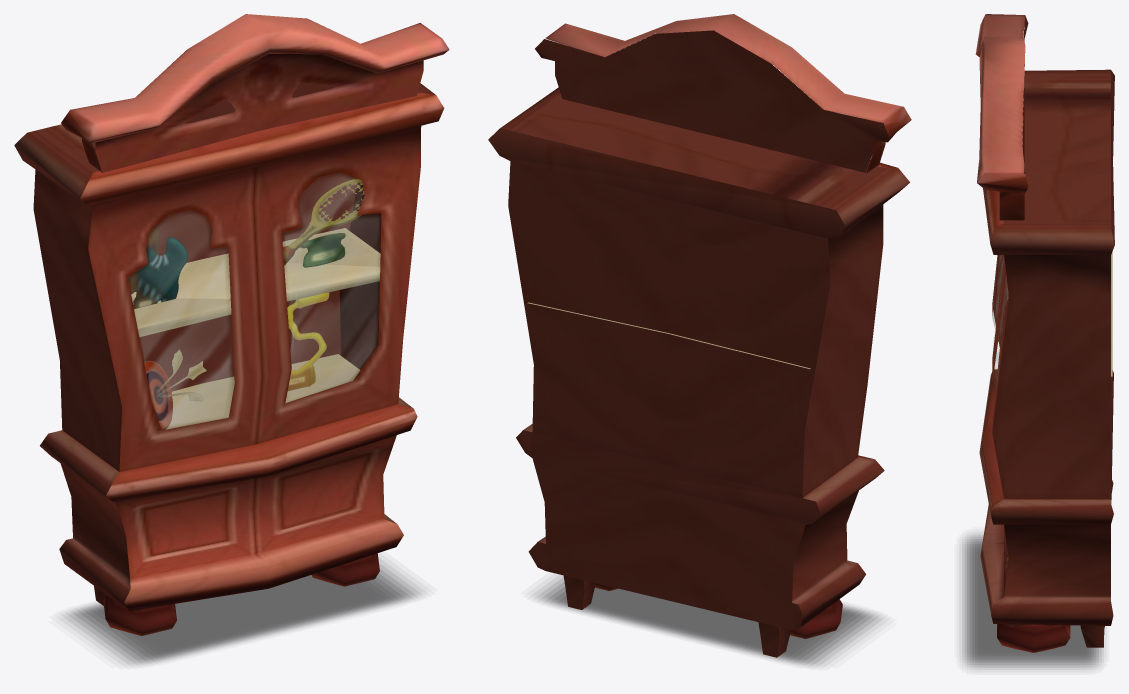
File: cabinetRwood.glb
3 views of the same model, side by side, from view 1: azimuth 30°, elevation 25°; view 2: azimuth 150°, elevation 25°; view 3: azimuth 270°, elevation 25° (orthographic). The views are drawn at different scales.
Parts seen in each view (by area): view 1: mid_m, low_mid, top1, mid_l, cabinetRwoodShadow, polySurface1, polySurface2, back, shelf, low_l, mid_r, shelf2 (+8 smaller); view 2: back, polySurface8, polySurface6, mid_l, polySurface5, polySurface7, cabinetRwoodShadow, top1, low_l, CABINET_Frontlegball_l; view 3: mid_r, low_r, polySurface5, top1, cabinetRwoodShadow, low_mid, CABINET_Frontlegball_l1, mid_m, mid_l, polySurface7, RB_foot1, polySurface2 (+1 smaller).
Boxes of the visible parts, box(x1,y1,x2,y2) form: mid_m: box(80, 92, 444, 471); low_mid: box(106, 404, 417, 611); top1: box(61, 14, 449, 172); mid_l: box(14, 130, 121, 471); cabinetRwoodShadow: box(63, 558, 422, 665); polySurface1: box(282, 173, 380, 400); polySurface2: box(128, 211, 234, 429); back: box(139, 172, 357, 391); shelf: box(131, 228, 380, 337); low_l: box(40, 430, 130, 610); mid_r: box(339, 83, 435, 369); shelf2: box(166, 354, 360, 429); back: box(508, 161, 830, 498); polySurface8: box(516, 430, 820, 629); polySurface6: box(535, 30, 889, 172); mid_l: box(802, 167, 909, 497); polySurface5: box(511, 94, 882, 207); polySurface7: box(488, 128, 844, 238); cabinetRwoodShadow: box(533, 575, 882, 665); top1: box(545, 14, 911, 173); low_l: box(792, 457, 884, 627); CABINET_Frontlegball_l: box(790, 599, 842, 638); mid_r: box(990, 223, 1114, 499); low_r: box(990, 499, 1113, 625); polySurface5: box(1004, 73, 1110, 223); top1: box(975, 14, 1028, 220); cabinetRwoodShadow: box(962, 534, 1103, 669); low_mid: box(979, 369, 1008, 615); CABINET_Frontlegball_l1: box(997, 624, 1070, 652); mid_m: box(983, 188, 1008, 430); mid_l: box(993, 69, 1110, 342); polySurface7: box(1111, 70, 1114, 244); RB_foot1: box(1080, 625, 1104, 647); polySurface2: box(992, 255, 1003, 348).
Size of the model in its own units: 6.88 by 10.59 by 2.86.
8 materials, 8 textured.
